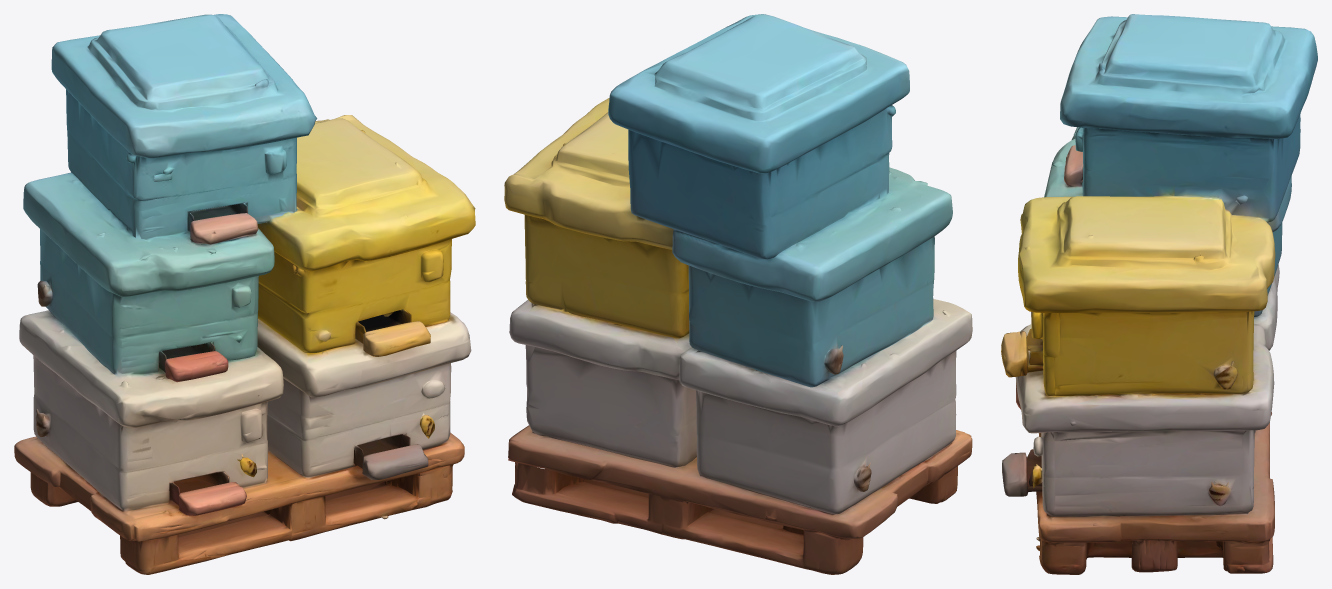
The model's file is beehive.glb.
3 views of the same model, side by side, from view 1: azimuth 30°, elevation 25°; view 2: azimuth 150°, elevation 25°; view 3: azimuth 270°, elevation 25° (orthographic). The views are drawn at different scales.
Parts seen in each view (by area): view 1: tripo_node_9ebbfb26-ee74-4678-89fe-997907e69196; view 2: tripo_node_9ebbfb26-ee74-4678-89fe-997907e69196; view 3: tripo_node_9ebbfb26-ee74-4678-89fe-997907e69196.
Part boxes in pixels (x1,y1,x2,y2): tripo_node_9ebbfb26-ee74-4678-89fe-997907e69196: [14, 14, 475, 574]; tripo_node_9ebbfb26-ee74-4678-89fe-997907e69196: [504, 14, 972, 574]; tripo_node_9ebbfb26-ee74-4678-89fe-997907e69196: [1001, 14, 1317, 574].
Size of the model in its own units: 0.7987 by 0.9784 by 0.638.
1 material, 1 textured.
